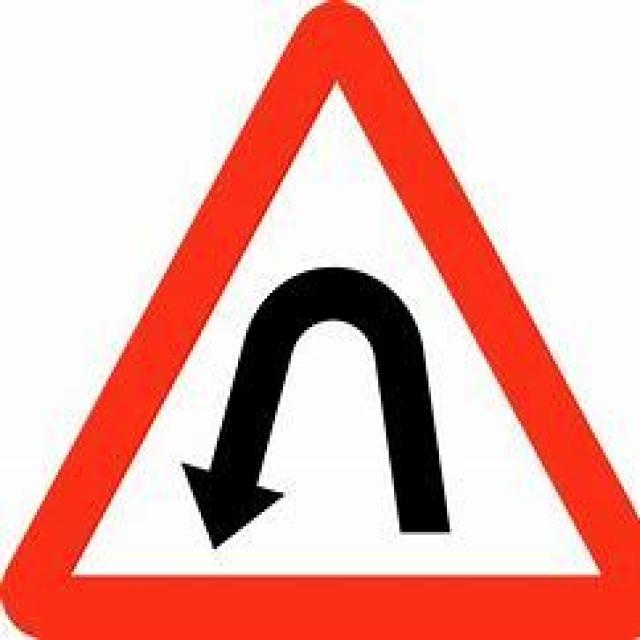road_rough: (0, 0, 637, 637)
